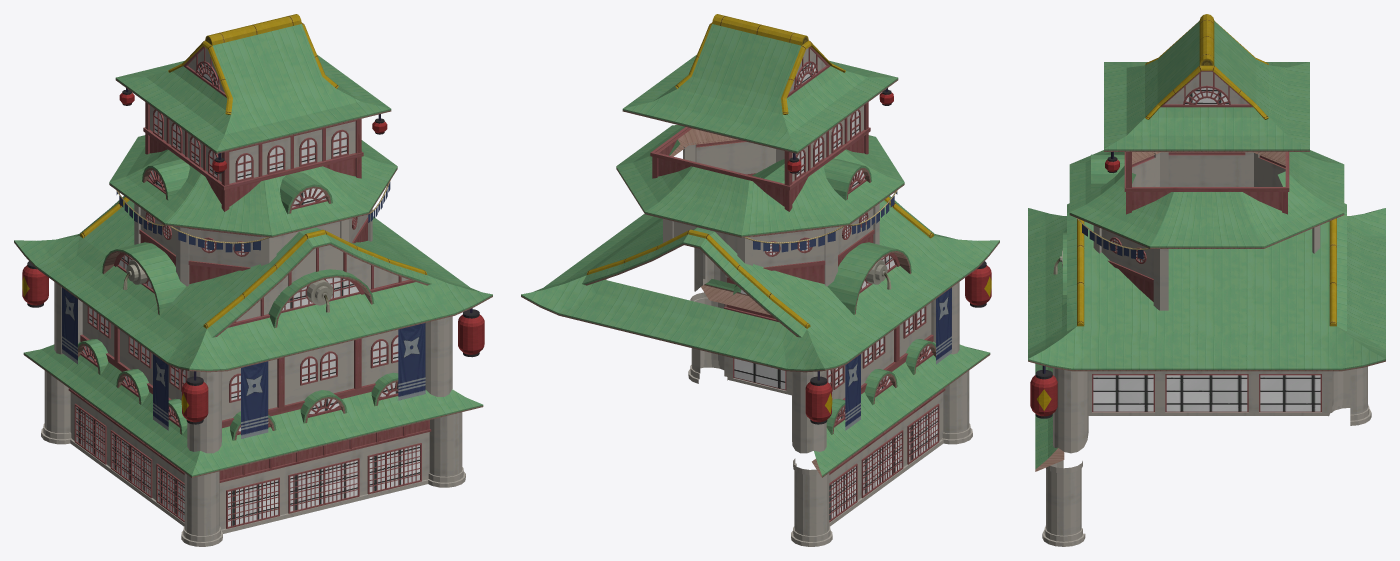
Rendered from REDUCTION_SM_ENV_KNVLLG_CommonBuilding_J_1.fbx.
3 views of the same model, side by side, from view 1: azimuth 30°, elevation 25°; view 2: azimuth 150°, elevation 25°; view 3: azimuth 270°, elevation 25° (orthographic). The views are drawn at different scales.
Visible parts, largest first — view 1: REDUCTION_SM_ENV_KNVLLG_CommonBuilding_J_1.mo; view 2: REDUCTION_SM_ENV_KNVLLG_CommonBuilding_J_1.mo; view 3: REDUCTION_SM_ENV_KNVLLG_CommonBuilding_J_1.mo.
Boxes of the visible parts, x1,y1,x2,y2 form: REDUCTION_SM_ENV_KNVLLG_CommonBuilding_J_1.mo: (14, 14, 492, 546); REDUCTION_SM_ENV_KNVLLG_CommonBuilding_J_1.mo: (521, 14, 999, 546); REDUCTION_SM_ENV_KNVLLG_CommonBuilding_J_1.mo: (1028, 14, 1385, 546).
Bounding box in the file's own units: 5106 × 6945 × 5106.
